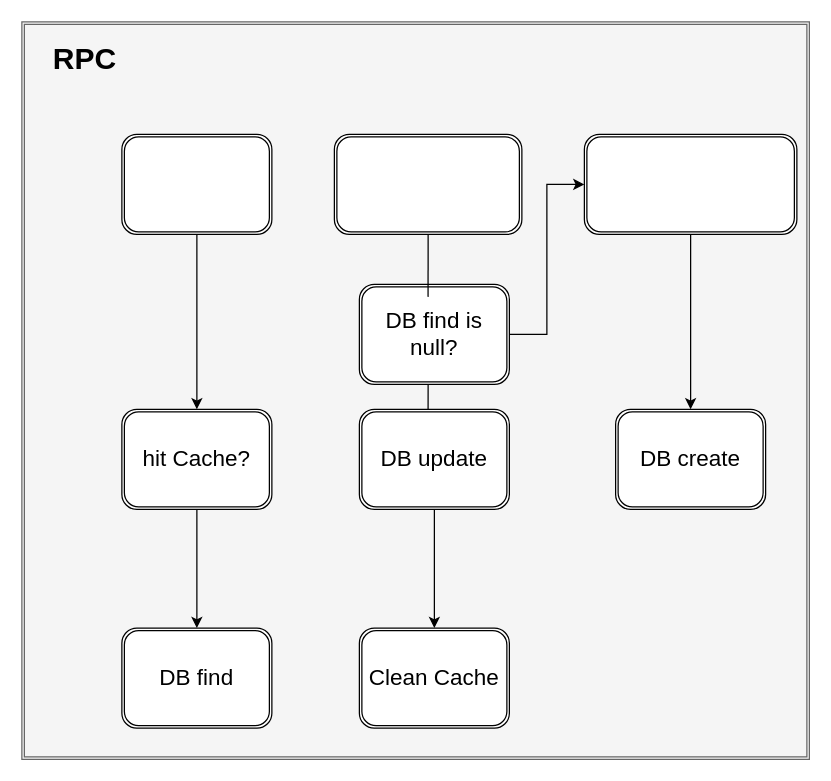
Image size: 831x781. Some labels were removed from this diagram. Each missing label, with the centre of its shape:
"createSchedule" belongs at point 690,183.
"getSchedule" belongs at point 196,183.
"updateSchedule" belongs at point 427,183.
